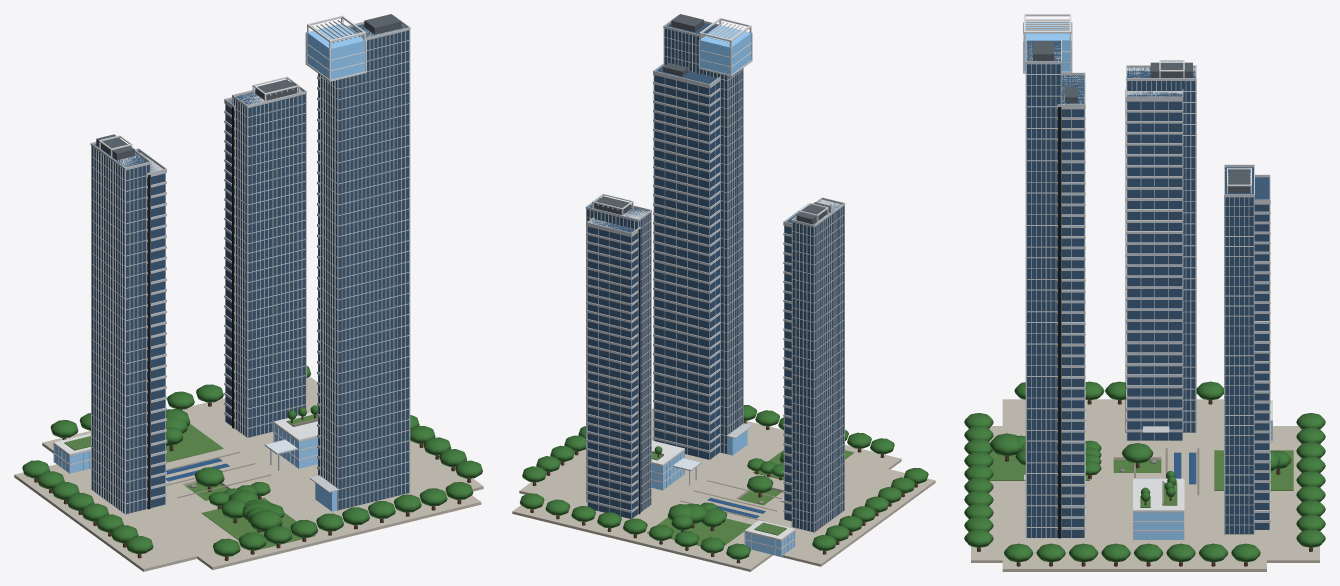
Rendered from samsung-town.glb.
3 renders of one model, left to right at view 1: azimuth 30°, elevation 25°; view 2: azimuth 150°, elevation 25°; view 3: azimuth 270°, elevation 25°, orthographic. The views are drawn at different scales.
Bounding box in the file's own units: 156 × 203 × 137.
